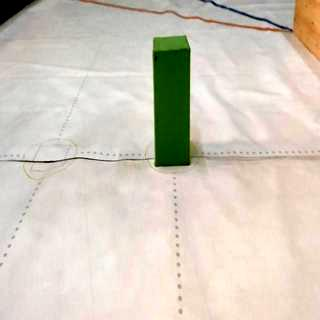greenbox: (152, 36, 192, 168)
